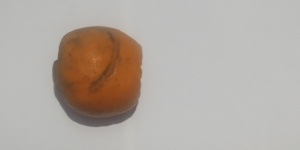BAD: (60, 25, 144, 117)
